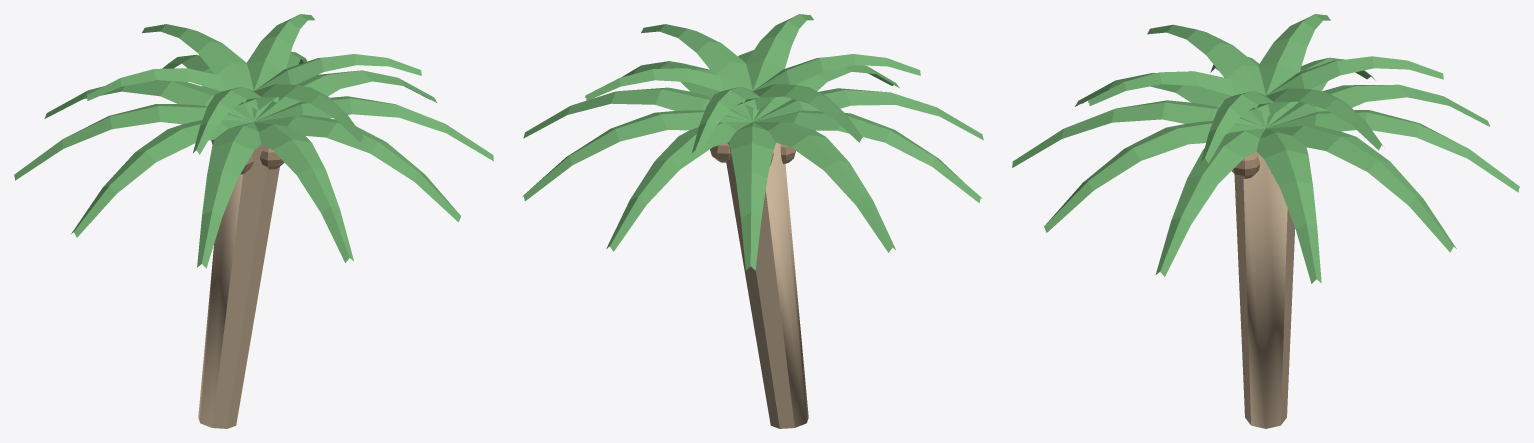
File: palm2.glb
3 views of the same model, side by side, from view 1: azimuth 30°, elevation 25°; view 2: azimuth 150°, elevation 25°; view 3: azimuth 270°, elevation 25° (orthographic). The views are drawn at different scales.
Parts seen in each view (by area): view 1: Fronds, Trunk, Coconuts; view 2: Fronds, Trunk, Coconuts; view 3: Fronds, Trunk, Coconuts.
Boxes of the visible parts, bbox=[...] form: Fronds: bbox=[14, 14, 493, 268]; Trunk: bbox=[198, 144, 279, 428]; Coconuts: bbox=[211, 139, 284, 174]; Fronds: bbox=[522, 14, 983, 270]; Trunk: bbox=[726, 142, 808, 428]; Coconuts: bbox=[710, 143, 795, 165]; Fronds: bbox=[1012, 14, 1519, 283]; Trunk: bbox=[1234, 152, 1295, 428]; Coconuts: bbox=[1232, 152, 1271, 178].
Bounding box in the file's own units: 16.73 × 13.8 × 16.93.
